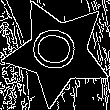O_E: (29, 27, 86, 77)
